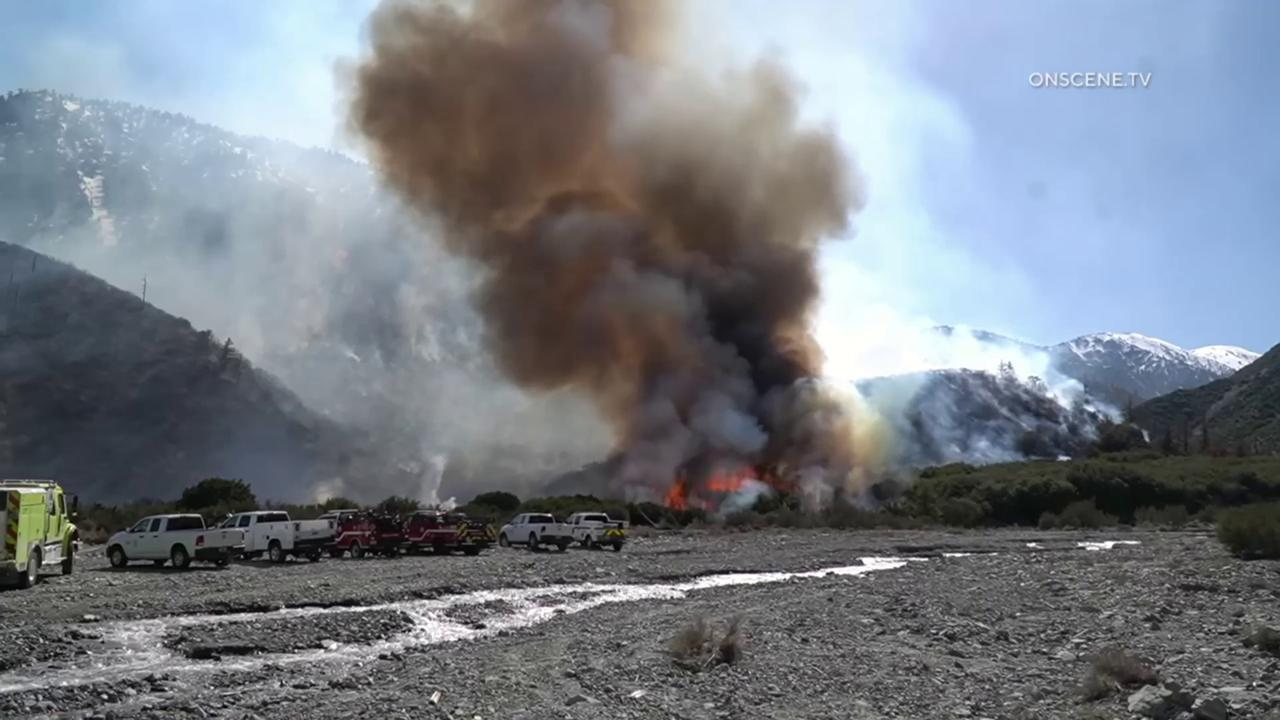fire: (703, 464, 758, 491), (663, 479, 689, 511)
smoke: (0, 0, 1153, 515)
